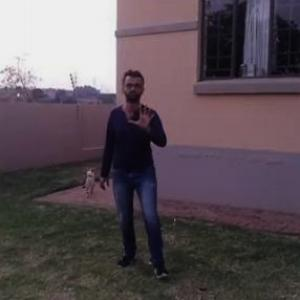follow_hand: (126, 99, 161, 130)
